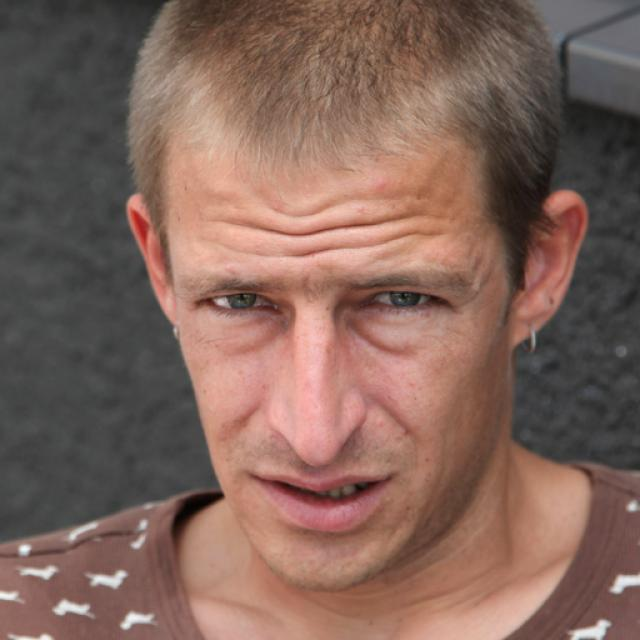disgust: (166, 93, 512, 591)
